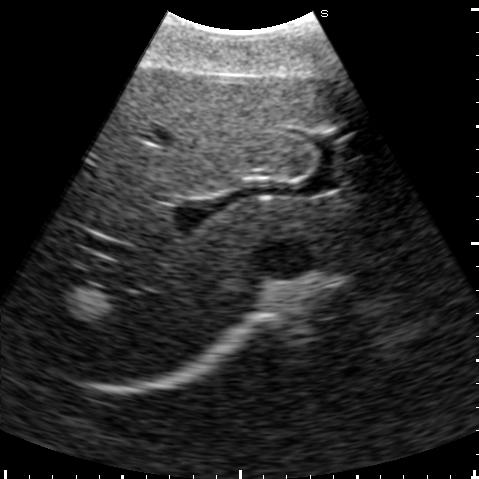IVC: (257, 239, 312, 278)
S3: (319, 79, 408, 201)
S4: (89, 69, 333, 199)
Tumor: (65, 290, 108, 319)
